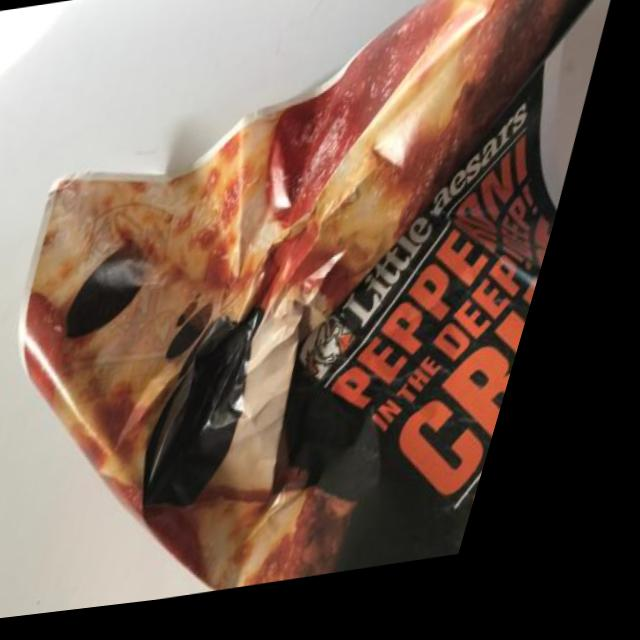paper: (0, 0, 640, 637)
